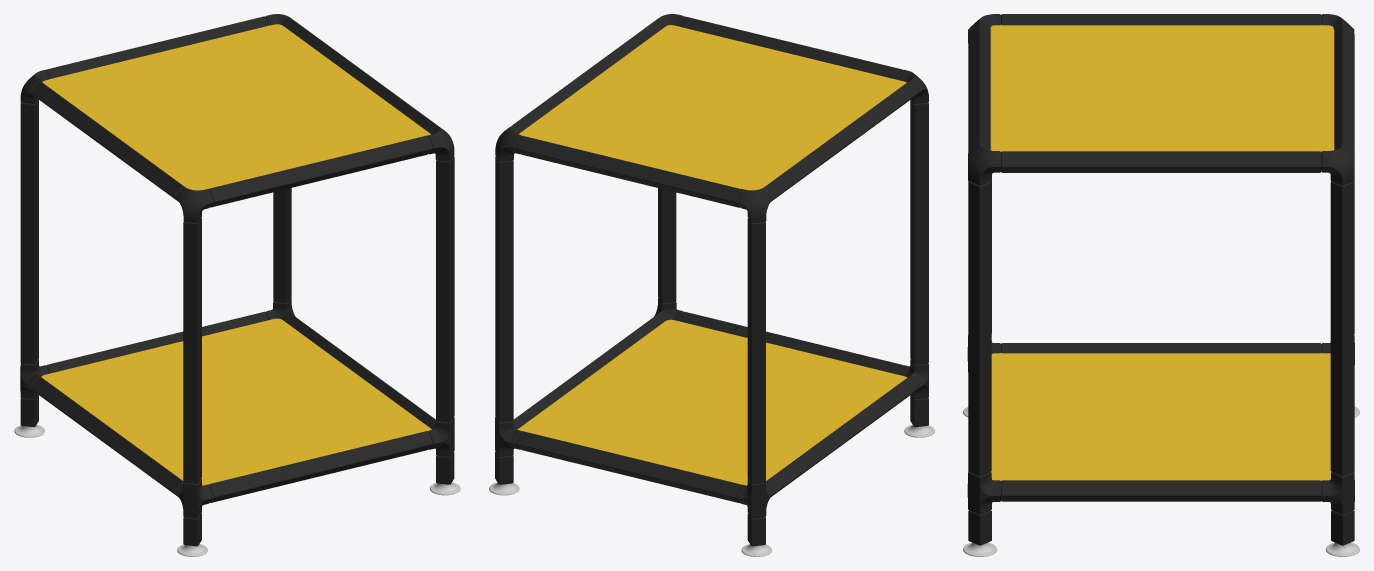
The picture shows the model from 3 angles, left to right: view 1: azimuth 30°, elevation 25°; view 2: azimuth 150°, elevation 25°; view 3: azimuth 270°, elevation 25°; orthographic projection. The views are drawn at different scales.
Parts seen in each view (by area): view 1: 329x374x374; view 2: 329x374x374; view 3: 329x374x374.
Boxes of the visible parts, x1,y1,x2,y2 form: 329x374x374: (14, 14, 460, 556); 329x374x374: (489, 14, 934, 556); 329x374x374: (963, 14, 1359, 556).
Size of the model in its own units: 0.4189 by 0.5133 by 0.4632.
